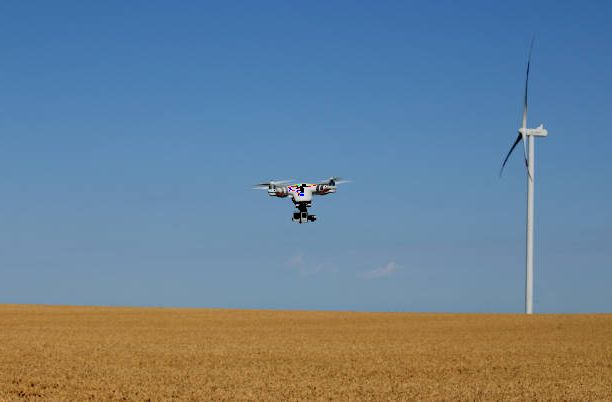Drone: (247, 172, 355, 228)
